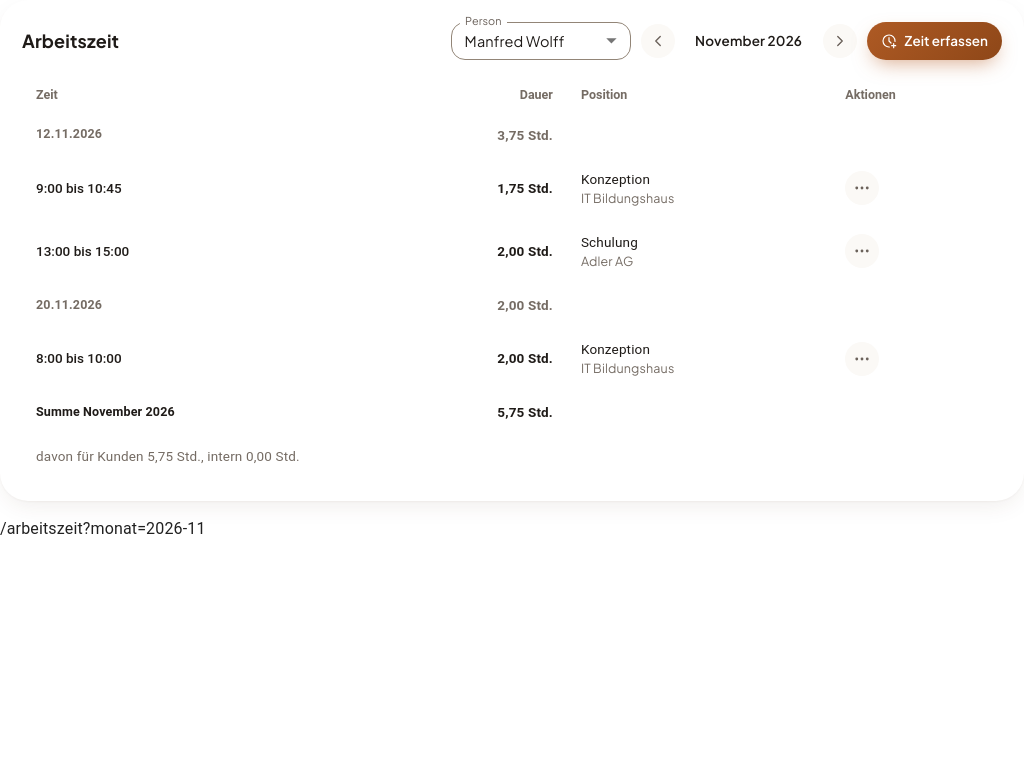
Scenario: ArbeitszeitPage — loeschen (Kriterium 6, Antwort 4) › meldet den Fehlschlag des Loeschens, statt ihn zu verschweigen
Click the button named "Aktionen für 12.11.2026, 9:00 bis 10:45".
click(862, 188)  # box [845, 171, 879, 205]
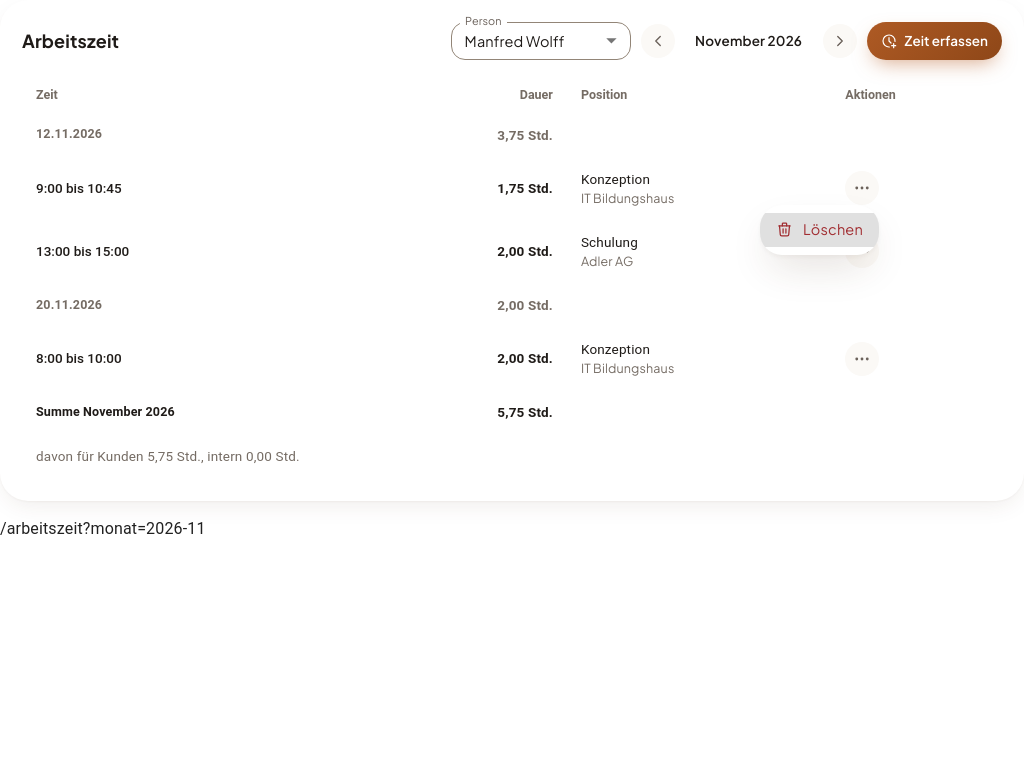
Click the menu item "Löschen".
click(819, 230)  # box [760, 213, 879, 247]
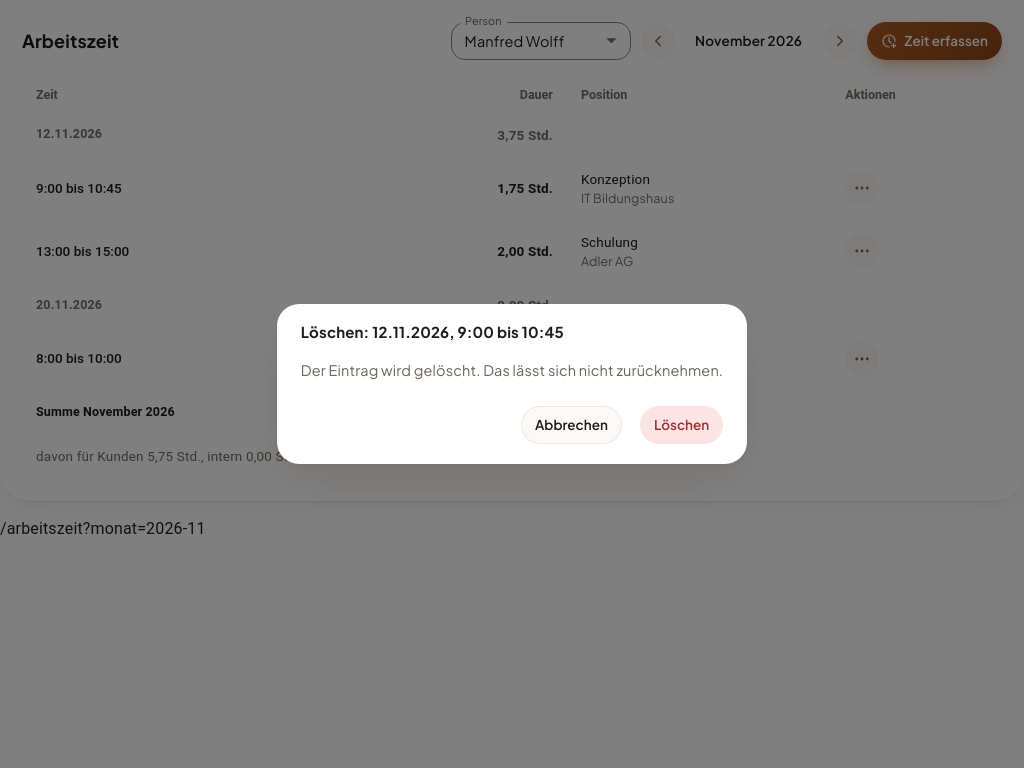
Click the button "Löschen".
click(682, 425)  # box [640, 406, 723, 444]
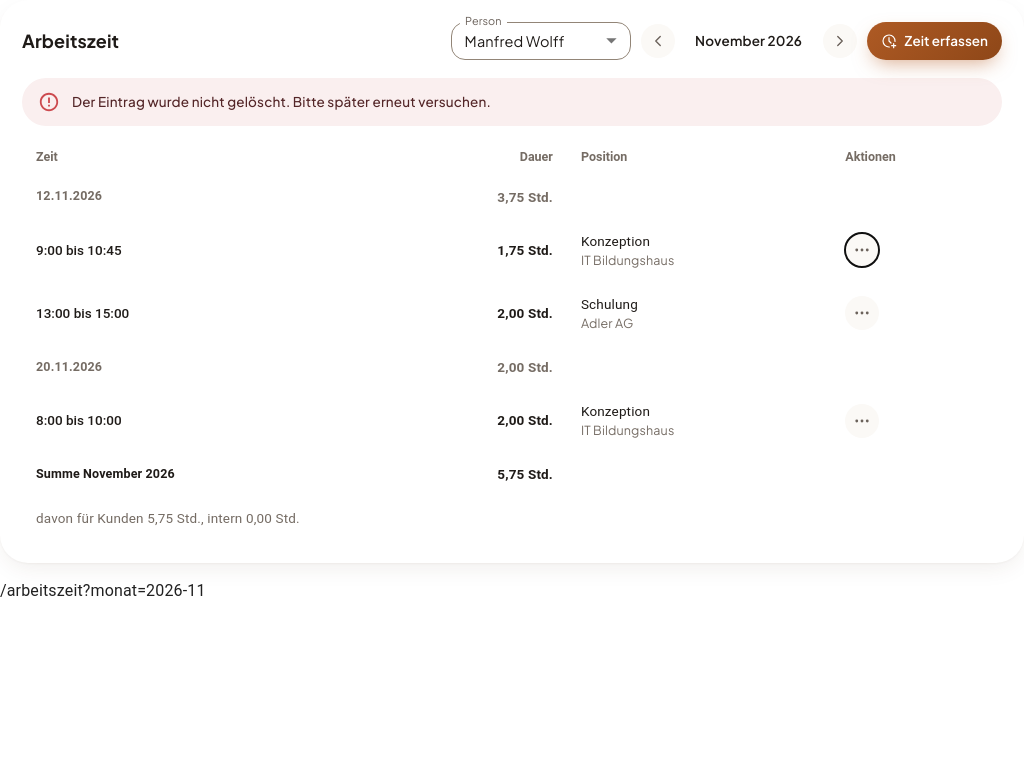
Check: the message reads "Der Eintrag wurde nicht gelöscht. Bitte später erneut versuchen.", box [72, 93, 491, 110]
